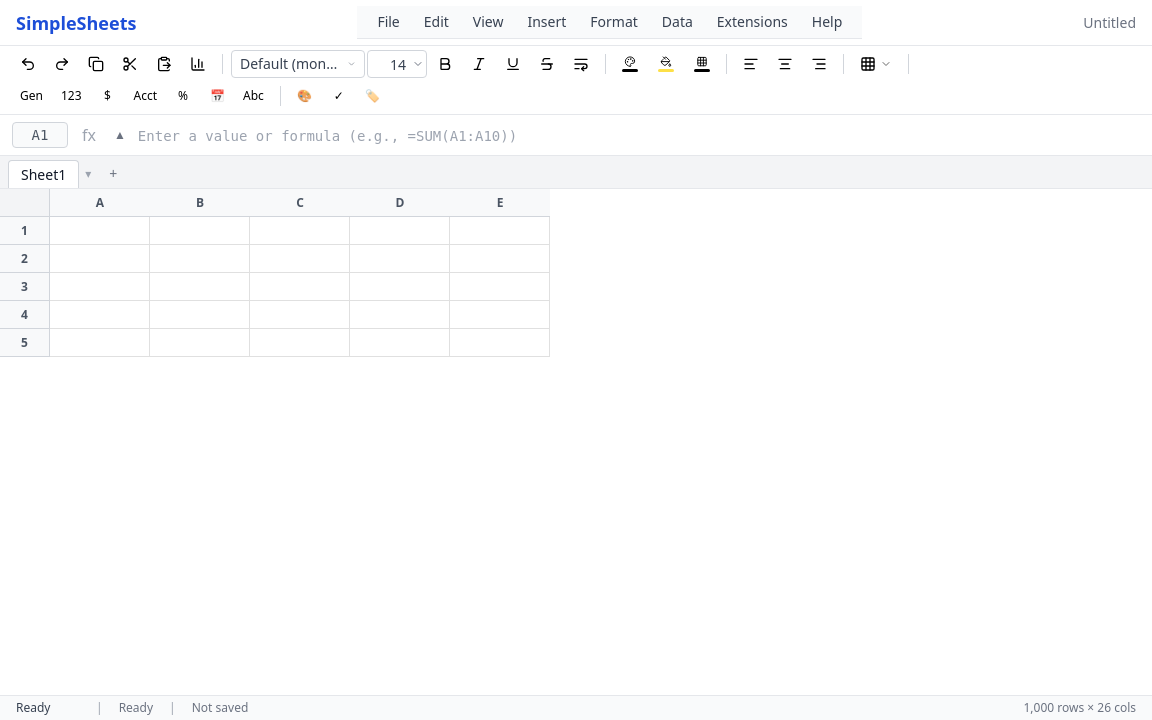
it: App - Formula Offset Calculation › correctly adjusts formula when copying A1(=B1) to C1
The image size is (1152, 720).
Press the mouse on the 2nd element with class "grid-cell" at coordinates (200, 231), box [150,217,250,245]
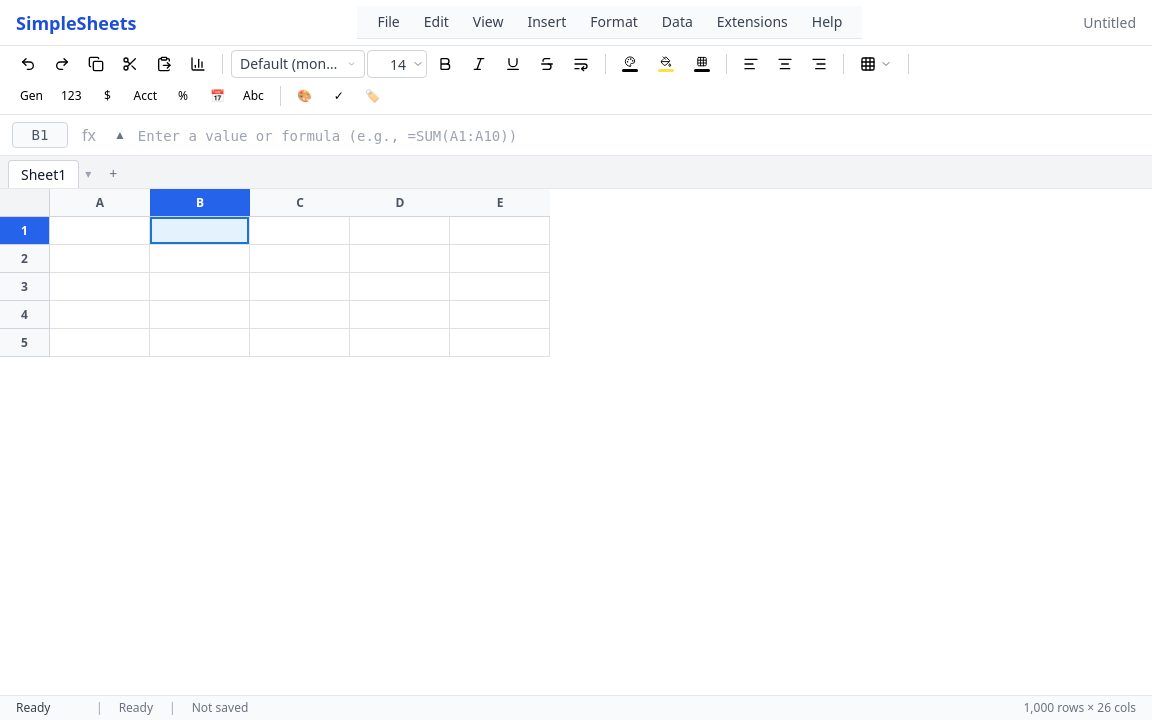
Type "100" into the field with placeholder "Enter a value or formula (e.g., =SUM(A1:A10))". click: coordinates (639, 136)
box: [138,126,1140,146]
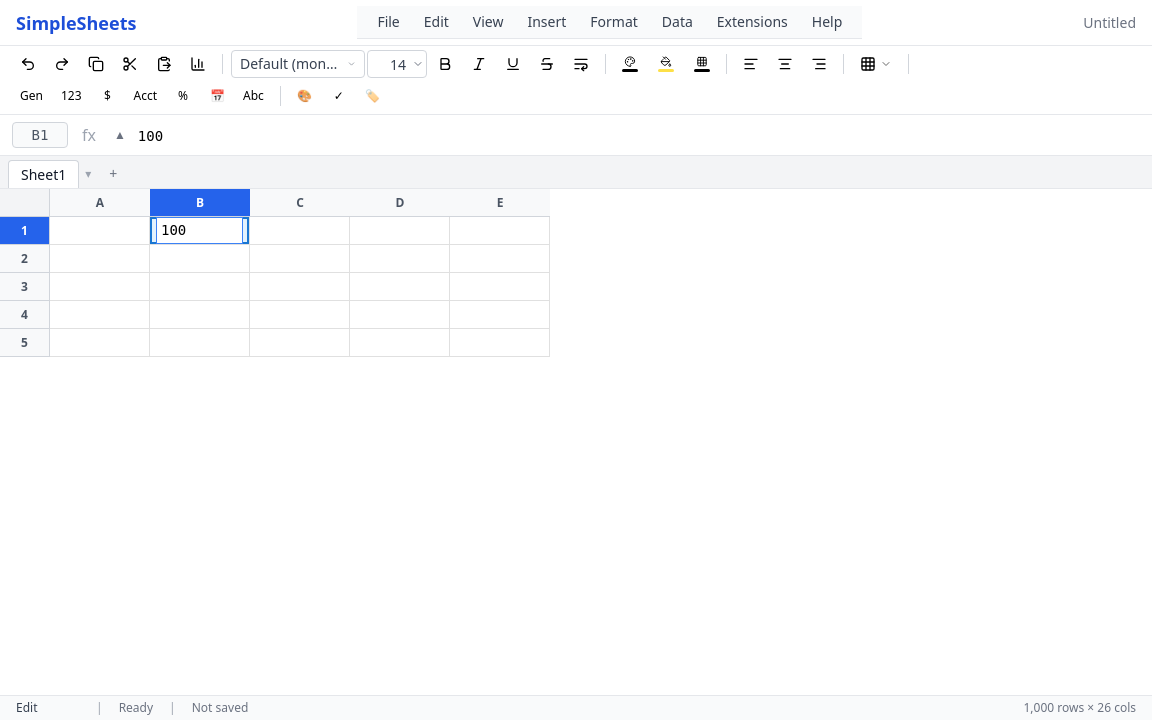
Press Enter in the 1st field with placeholder "Enter a value or formula (e.g., =SUM(A1:A10))", box [138,126,1140,146]
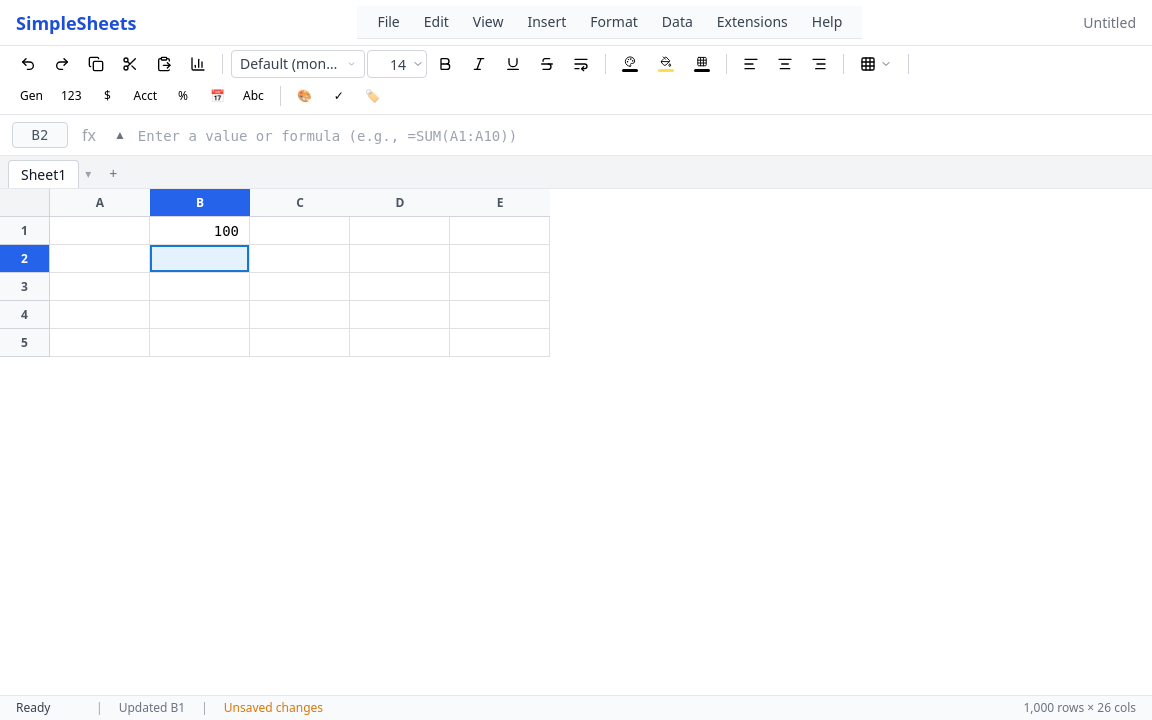
Press the mouse on the 1st element with class "grid-cell" at coordinates (100, 231), box [50,217,150,245]
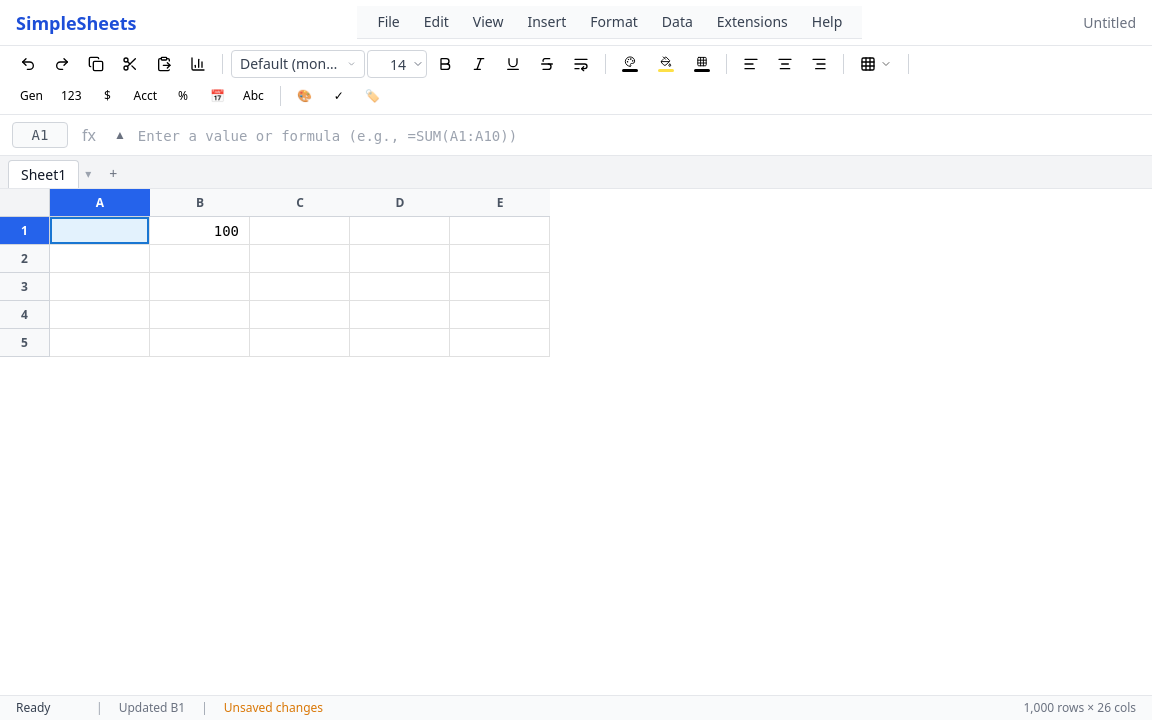
Type "=B1" into the field with placeholder "Enter a value or formula (e.g., =SUM(A1:A10))". click: coordinates (639, 136)
box: [138,126,1140,146]
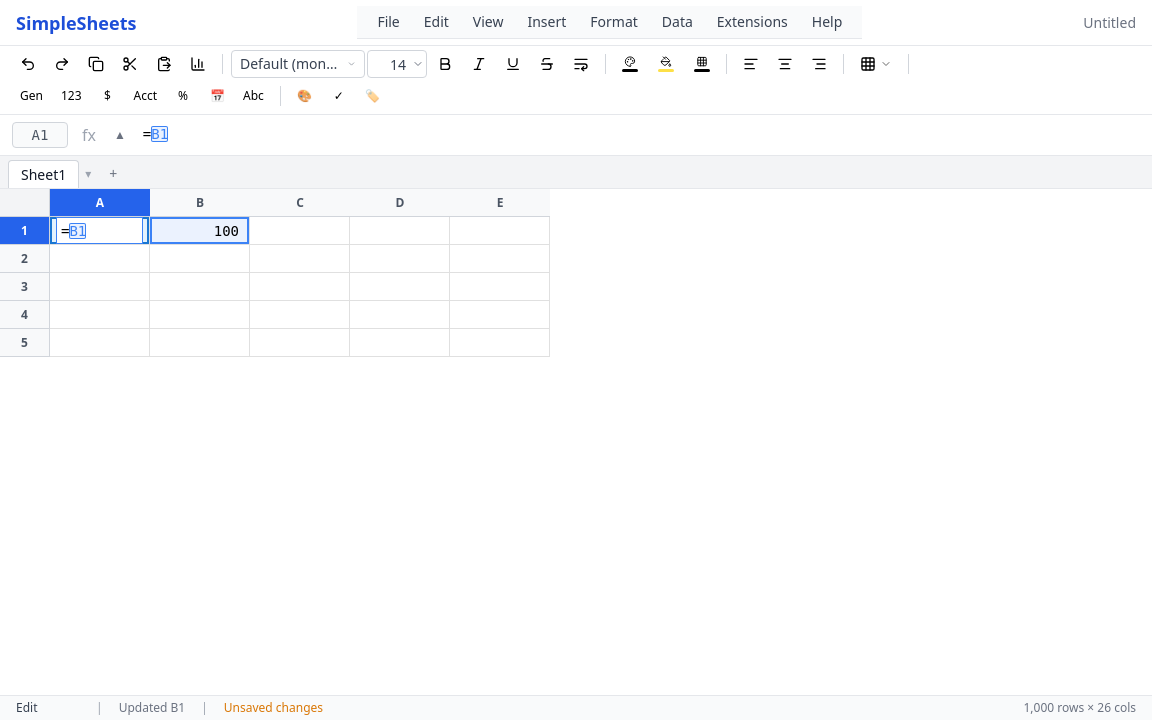
Press Enter in the 1st field with placeholder "Enter a value or formula (e.g., =SUM(A1:A10))", box [138,126,1140,146]
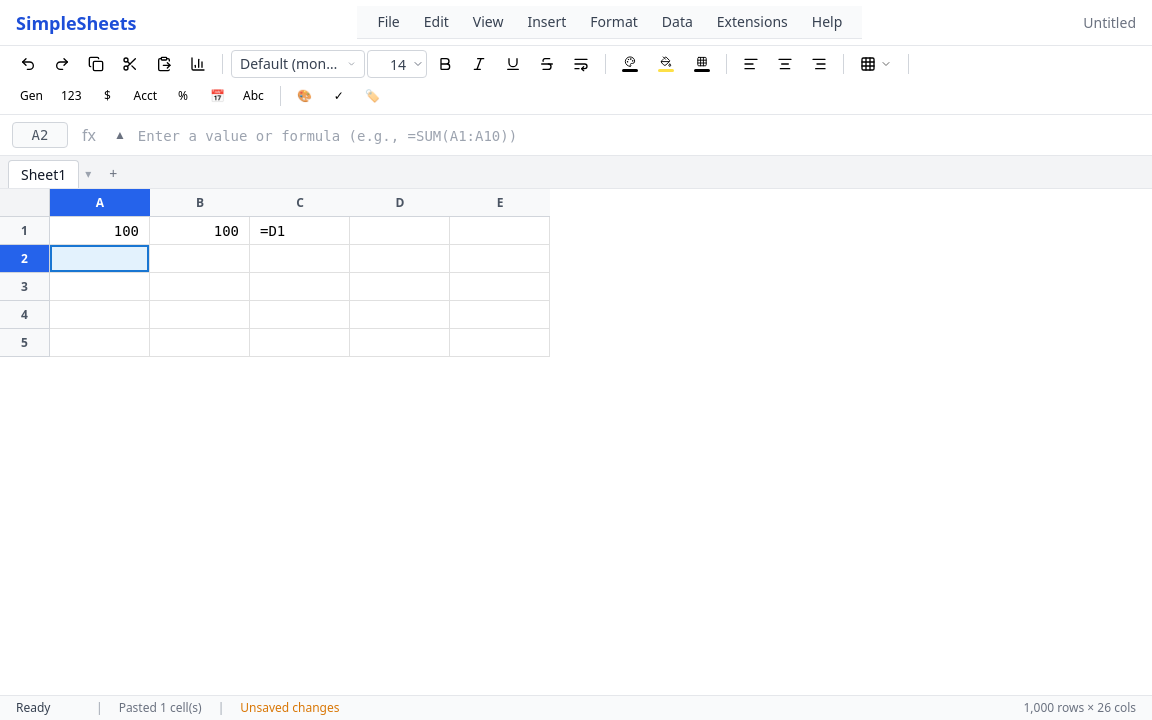
Now the text "Pasted 1 cell(s)" is shown, box [119,700,202,716]
